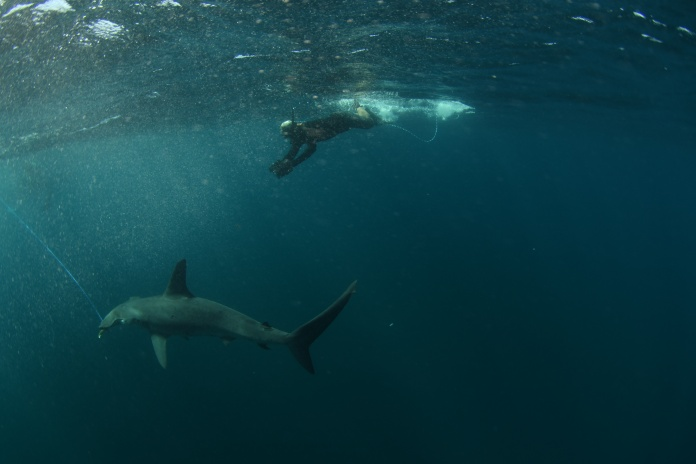Hammer: (69, 244, 366, 404)
